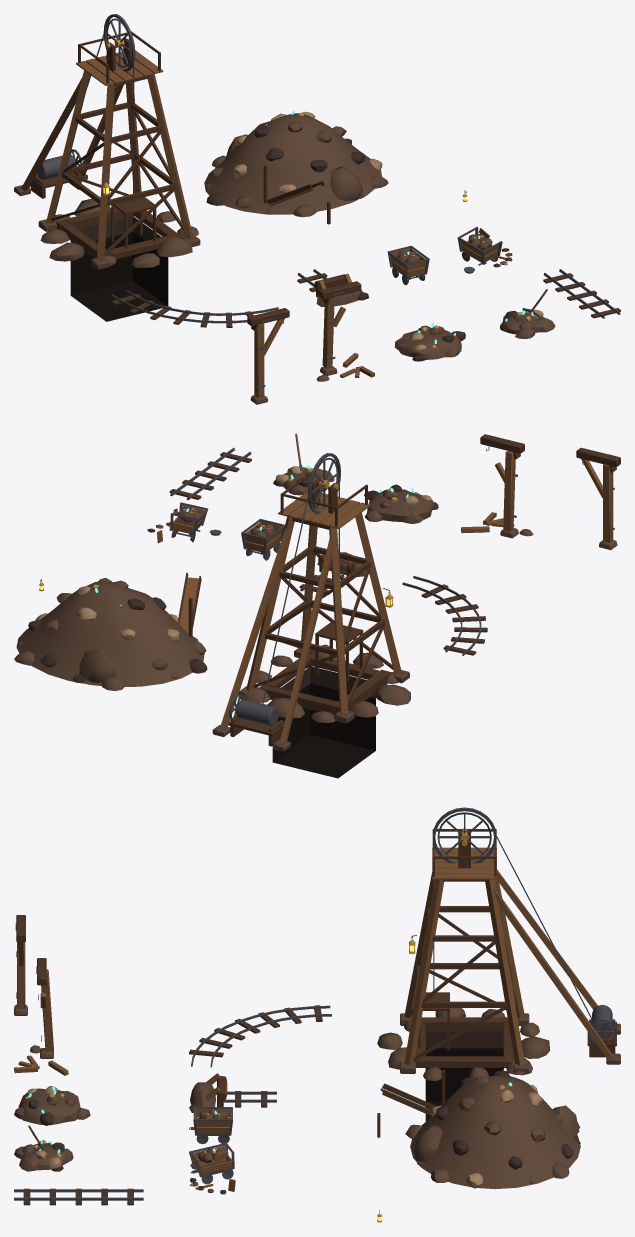
The picture shows the model from 3 angles, top to bottom: view 1: azimuth 30°, elevation 25°; view 2: azimuth 150°, elevation 25°; view 3: azimuth 270°, elevation 25°; orthographic projection. The views are drawn at different scales.
Visible parts, largest first — view 1: kopyor, ore_heap, timber_support_b, ore_pile_a, timber_support_a, rail_curve, minecart_broken, ore_pile_b, rail_buffer, rail_straight_4m, minecart, kopyor_wheel; view 2: kopyor, ore_heap, timber_support_b, ore_pile_a, timber_support_a, rail_curve, minecart_broken, rail_straight_4m, minecart, ore_pile_b, kopyor_wheel, rail_buffer; view 3: kopyor, ore_heap, ore_pile_a, rail_curve, minecart_broken, timber_support_b, rail_buffer, ore_pile_b, rail_straight_4m, kopyor_wheel, minecart, timber_support_a.
Part boxes in pixels (box(x1,y1,x2,y2)): kopyor: box(14, 31, 200, 321); ore_heap: box(204, 110, 388, 224); timber_support_b: box(316, 281, 374, 381); ore_pile_a: box(394, 322, 465, 361); timber_support_a: box(247, 308, 289, 404); rail_curve: box(111, 290, 278, 327); minecart_broken: box(457, 227, 512, 273); ore_pile_b: box(500, 289, 555, 338); rail_buffer: box(297, 269, 368, 306); rail_straight_4m: box(543, 269, 620, 318); minecart: box(387, 245, 429, 279); kopyor_wheel: box(103, 14, 135, 71); kopyor: box(212, 471, 410, 778); ore_heap: box(14, 572, 207, 690); timber_support_b: box(461, 434, 533, 538); ore_pile_a: box(364, 484, 438, 523); timber_support_a: box(576, 447, 620, 549); rail_curve: box(402, 576, 487, 655); minecart_broken: box(147, 502, 221, 543); rail_straight_4m: box(169, 447, 251, 500); minecart: box(241, 519, 284, 554); ore_pile_b: box(273, 433, 334, 495); kopyor_wheel: box(307, 453, 340, 514); rail_buffer: box(299, 552, 369, 594); kopyor: box(377, 828, 620, 1121); ore_heap: box(377, 1070, 580, 1189); ore_pile_a: box(14, 1086, 90, 1125); rail_curve: box(189, 1005, 331, 1067); minecart_broken: box(189, 1143, 235, 1194); timber_support_b: box(14, 958, 68, 1075); rail_buffer: box(189, 1073, 276, 1112); ore_pile_b: box(14, 1125, 73, 1171); rail_straight_4m: box(14, 1188, 143, 1205); kopyor_wheel: box(432, 807, 496, 863); minecart: box(189, 1107, 232, 1135); timber_support_a: box(14, 915, 27, 1015).
Size of the model in its own units: 14.85 by 10.54 by 18.73.
